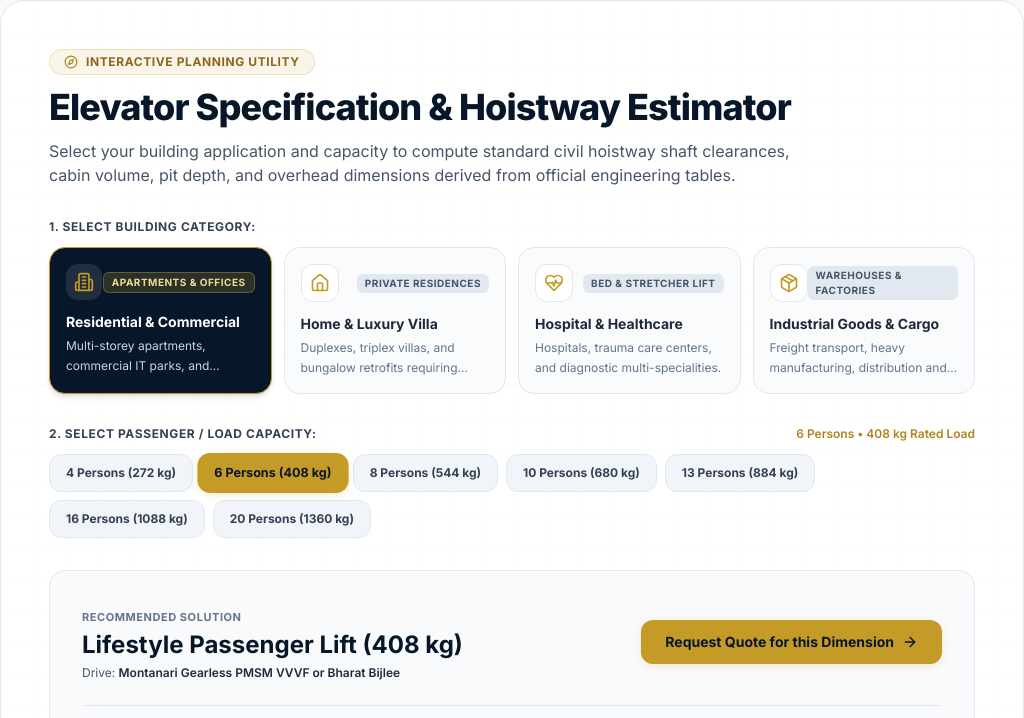
HoistwayCalculator Component › switches category to Industrial Goods & Cargo and updates payload
What coordinates should you click on to do the following:
click the button "Industrial Goods & Cargo"
I would click on:
 (864, 320)
Its box is [752,247,975,394].
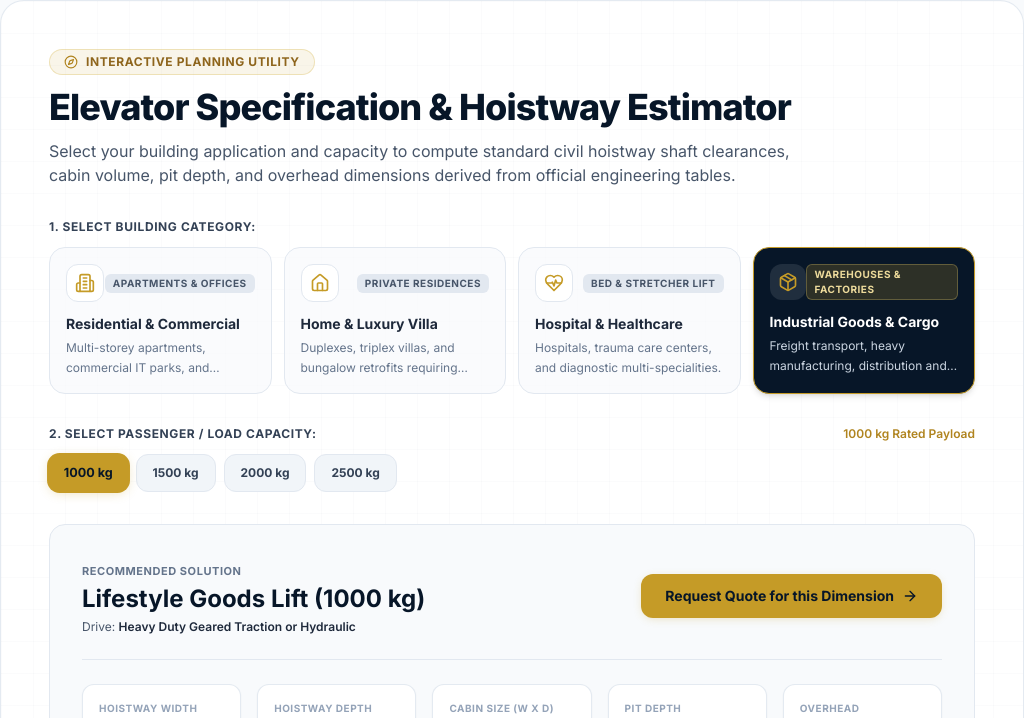
Check: the heading "Lifestyle Goods Lift (1000 kg)" is shown, box [82,583,425,615]
Check: the text "Heavy Duty Geared Traction or Hydraulic" is shown, box [118,619,356,634]
